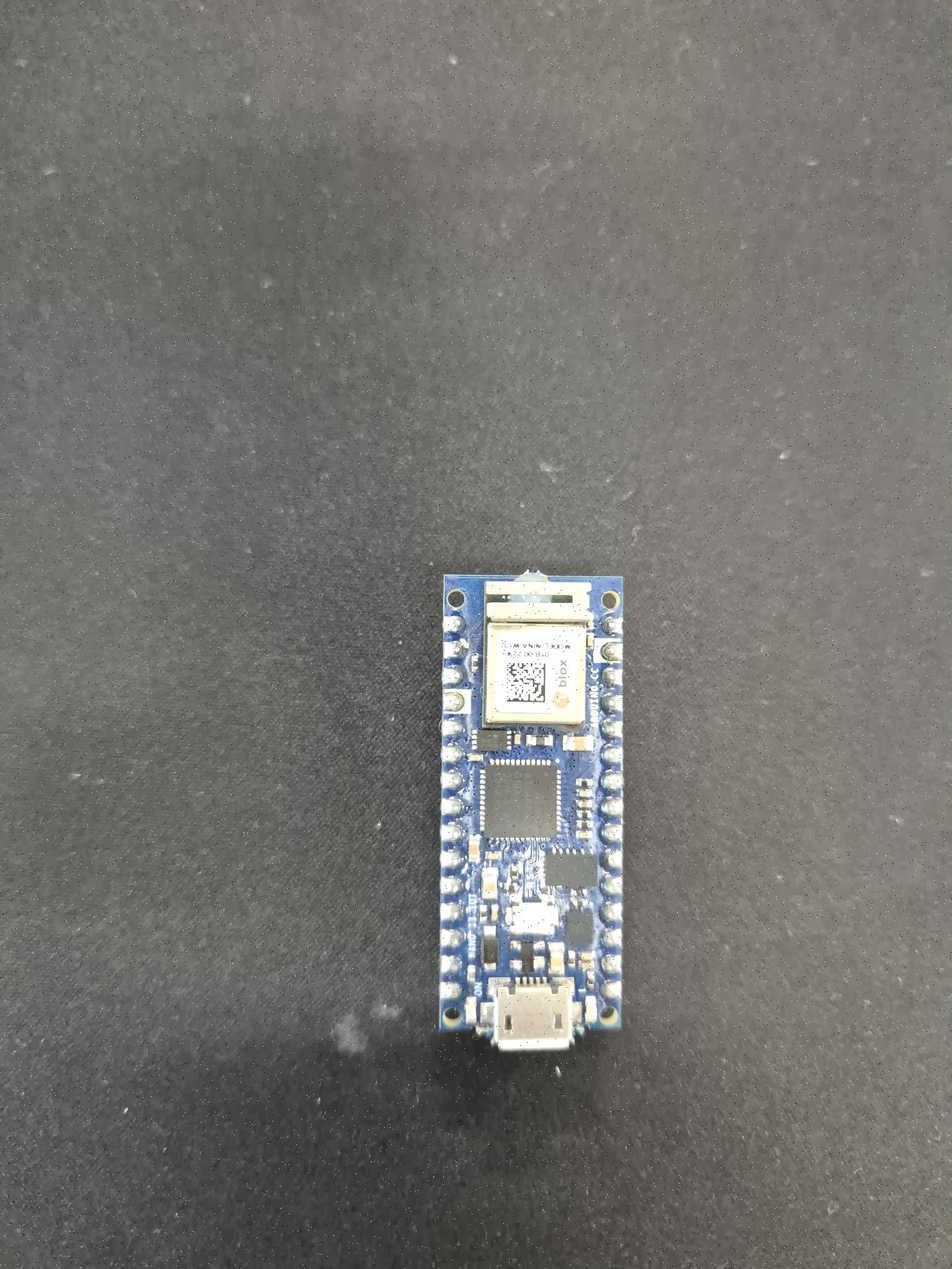arduino-nano-iot-33: (441, 569, 627, 1039)
